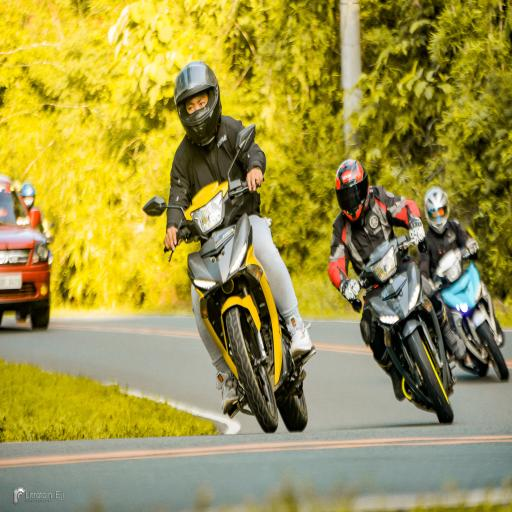overloading: (141, 127, 316, 435)
